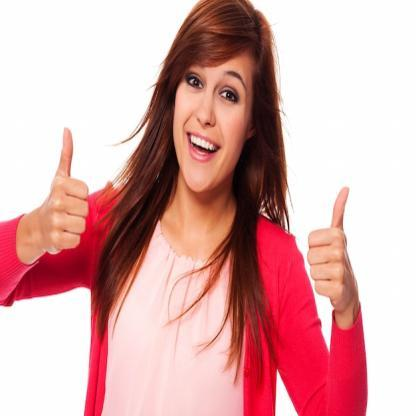thumb_up: (307, 184, 358, 314), (43, 125, 90, 259)
